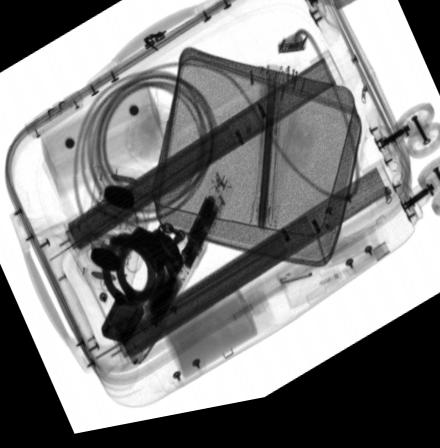Baton: (133, 173, 234, 334)
HandCuffs: (88, 227, 186, 329)
Lighter: (99, 299, 143, 349)
